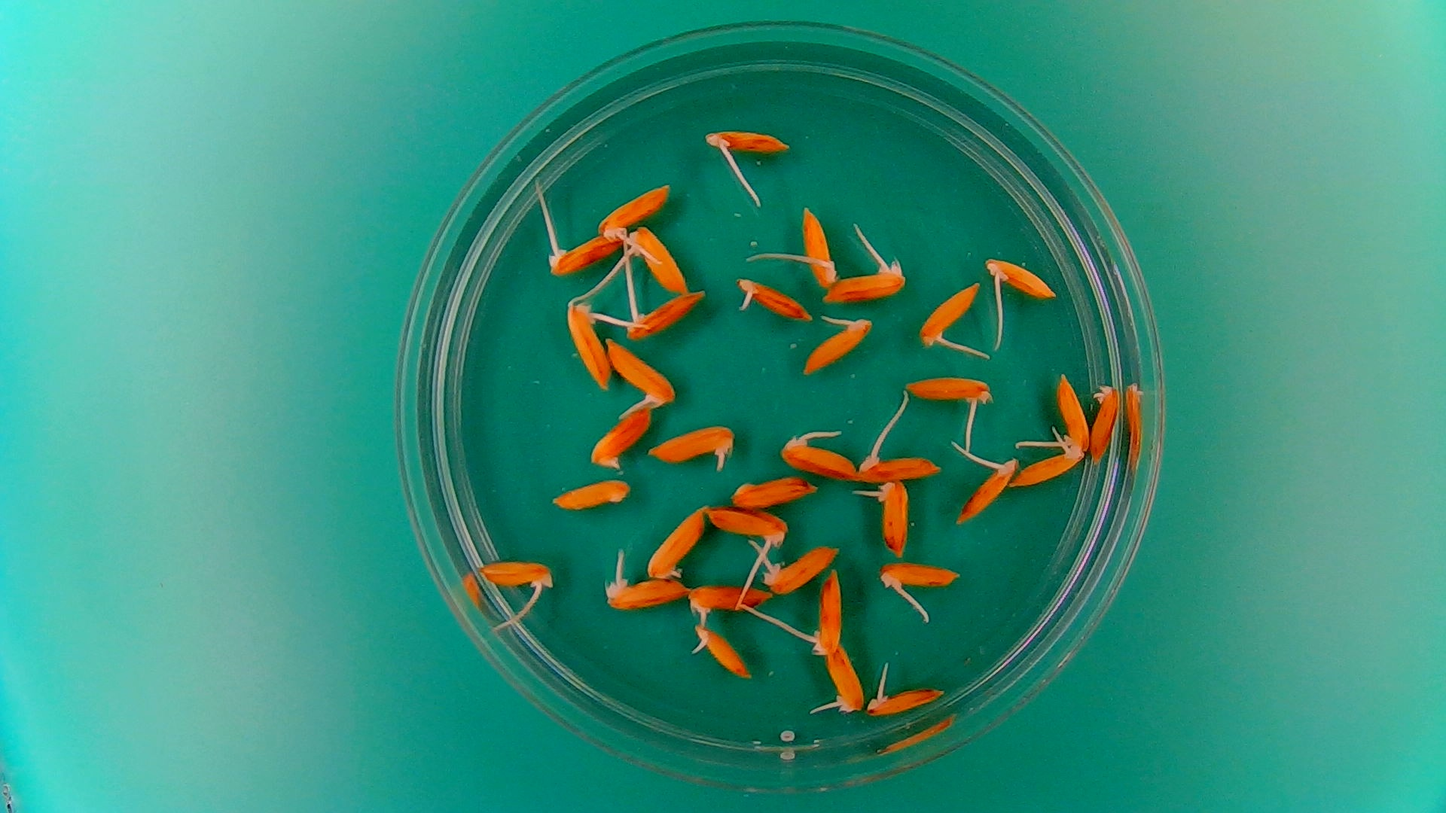no: (587, 406, 655, 472), (728, 476, 821, 510), (1088, 379, 1122, 466), (549, 476, 633, 511)
yes: (602, 336, 678, 409), (563, 293, 614, 391), (919, 276, 984, 351), (644, 504, 708, 580), (901, 370, 996, 418), (623, 288, 708, 340), (627, 227, 691, 294), (799, 316, 870, 376), (596, 183, 672, 237), (765, 543, 843, 595), (731, 273, 812, 323), (648, 423, 735, 468), (981, 253, 1060, 302), (961, 458, 1019, 524), (685, 580, 772, 623), (688, 623, 752, 681), (711, 501, 789, 548), (823, 262, 908, 305), (805, 566, 845, 656), (545, 232, 624, 275), (776, 440, 857, 480), (1054, 372, 1092, 455), (800, 209, 839, 289), (1012, 446, 1089, 486), (608, 575, 689, 613), (474, 556, 556, 593), (824, 644, 865, 715), (878, 476, 913, 556), (866, 682, 945, 717), (876, 557, 960, 589), (856, 451, 936, 482), (704, 129, 791, 156)
